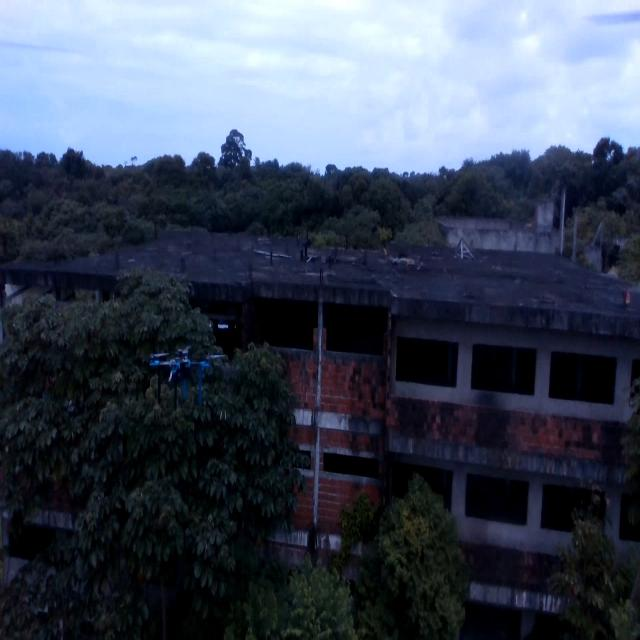-uav-: (141, 338, 231, 425)
